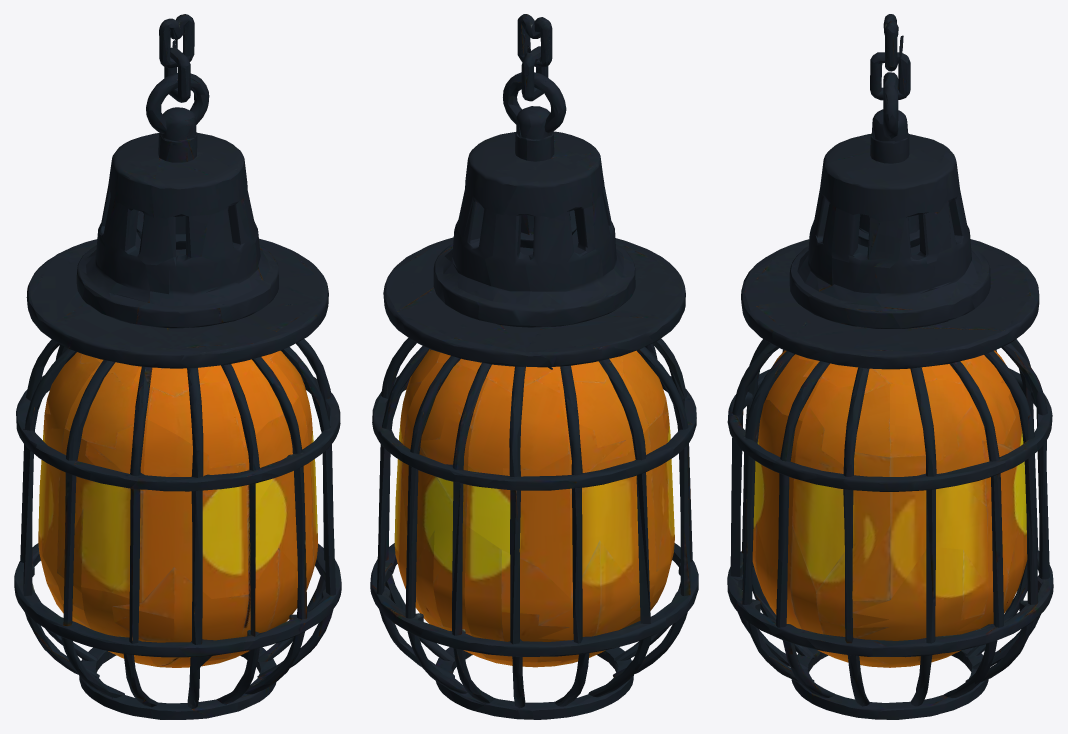
File: lantern.glb
The picture shows the model from 3 angles, left to right: view 1: azimuth 30°, elevation 25°; view 2: azimuth 150°, elevation 25°; view 3: azimuth 270°, elevation 25°; orthographic projection.
Size of the model in its own units: 0.8508 by 1.9 by 0.8511.
Materials: 1 (1 with a texture image).
